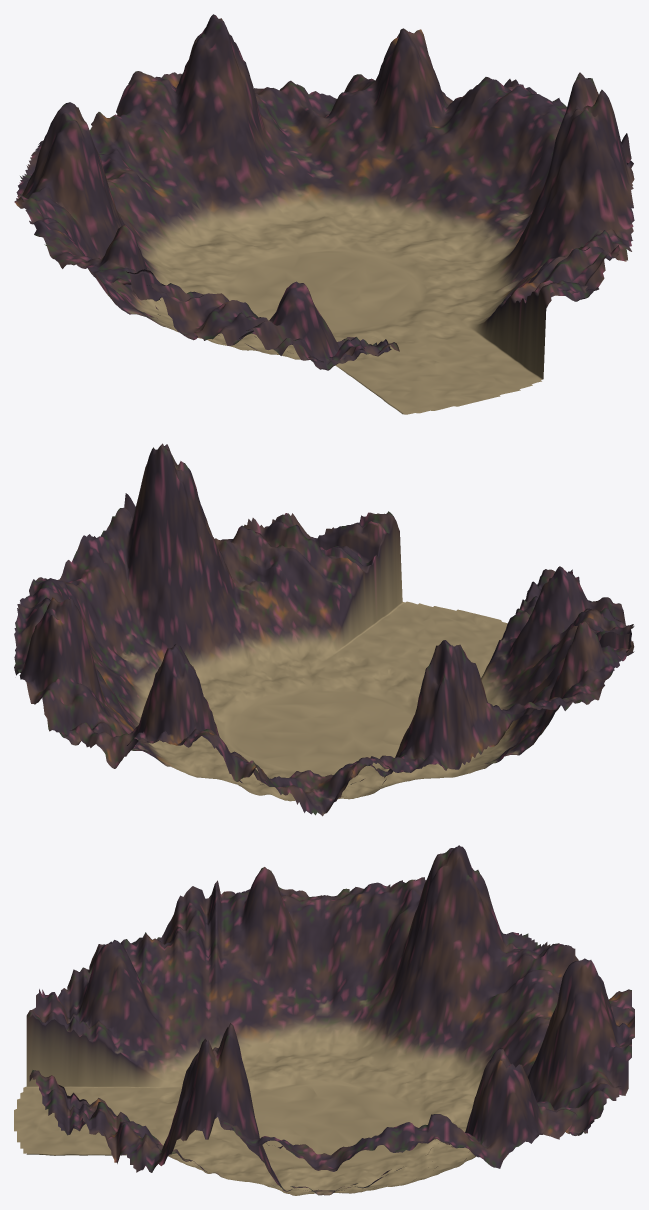
The model's file is kt_reef.glb.
The picture shows the model from 3 angles, top to bottom: view 1: azimuth 30°, elevation 25°; view 2: azimuth 150°, elevation 25°; view 3: azimuth 270°, elevation 25°; orthographic projection.
Visible parts, largest first — view 1: kt_reef; view 2: kt_reef; view 3: kt_reef.
Boxes of the visible parts, bbox=[...] form: kt_reef: bbox=[14, 14, 634, 414]; kt_reef: bbox=[14, 443, 634, 816]; kt_reef: bbox=[14, 845, 634, 1195].
Bounding box in the file's own units: 17.82 × 6.46 × 17.82.
